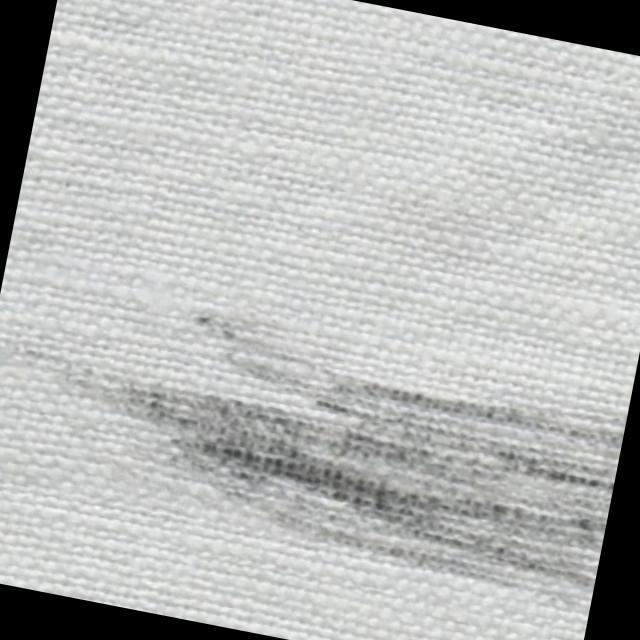Stain: (46, 278, 634, 624)
